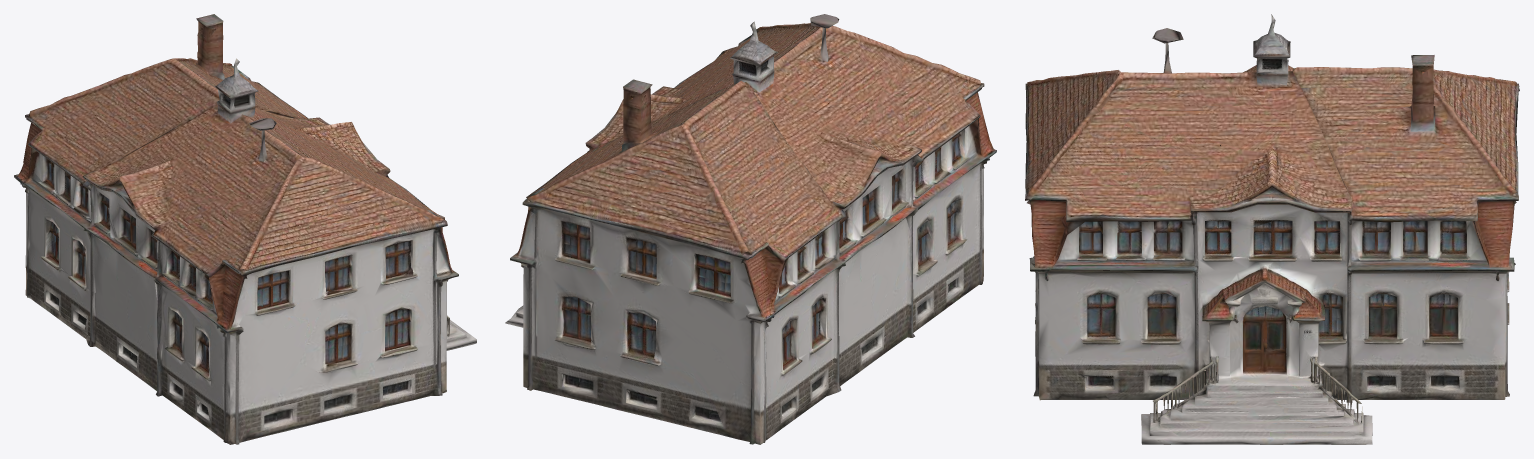
File: amt_spitzk.glb
3 renders of one model, left to right at view 1: azimuth 30°, elevation 25°; view 2: azimuth 150°, elevation 25°; view 3: azimuth 270°, elevation 25°, orthographic. The views are drawn at different scales.
Parts seen in each view (by area): view 1: tripo_node_80b78430-36ad-4274-b2ca-86f77aded6b4; view 2: tripo_node_80b78430-36ad-4274-b2ca-86f77aded6b4; view 3: tripo_node_80b78430-36ad-4274-b2ca-86f77aded6b4.
Part boxes in pixels (x1,y1,x2,y2): tripo_node_80b78430-36ad-4274-b2ca-86f77aded6b4: (14, 14, 476, 444); tripo_node_80b78430-36ad-4274-b2ca-86f77aded6b4: (505, 14, 996, 444); tripo_node_80b78430-36ad-4274-b2ca-86f77aded6b4: (1025, 14, 1519, 444).
Size of the model in its own units: 0.8058 by 0.7336 by 1.
1 material, 1 textured.
